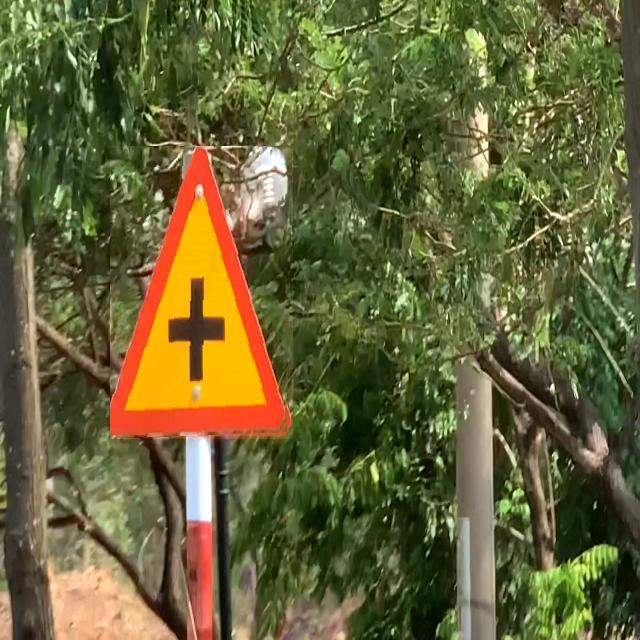W-205a: (110, 146, 293, 439)
